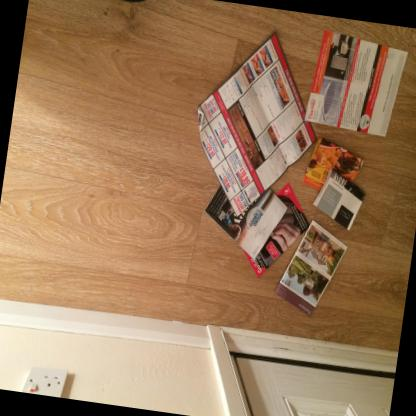Paper: (196, 30, 316, 216), (303, 27, 407, 135), (273, 218, 346, 315), (239, 181, 308, 276), (203, 183, 286, 258), (311, 167, 364, 229), (301, 136, 362, 189)
